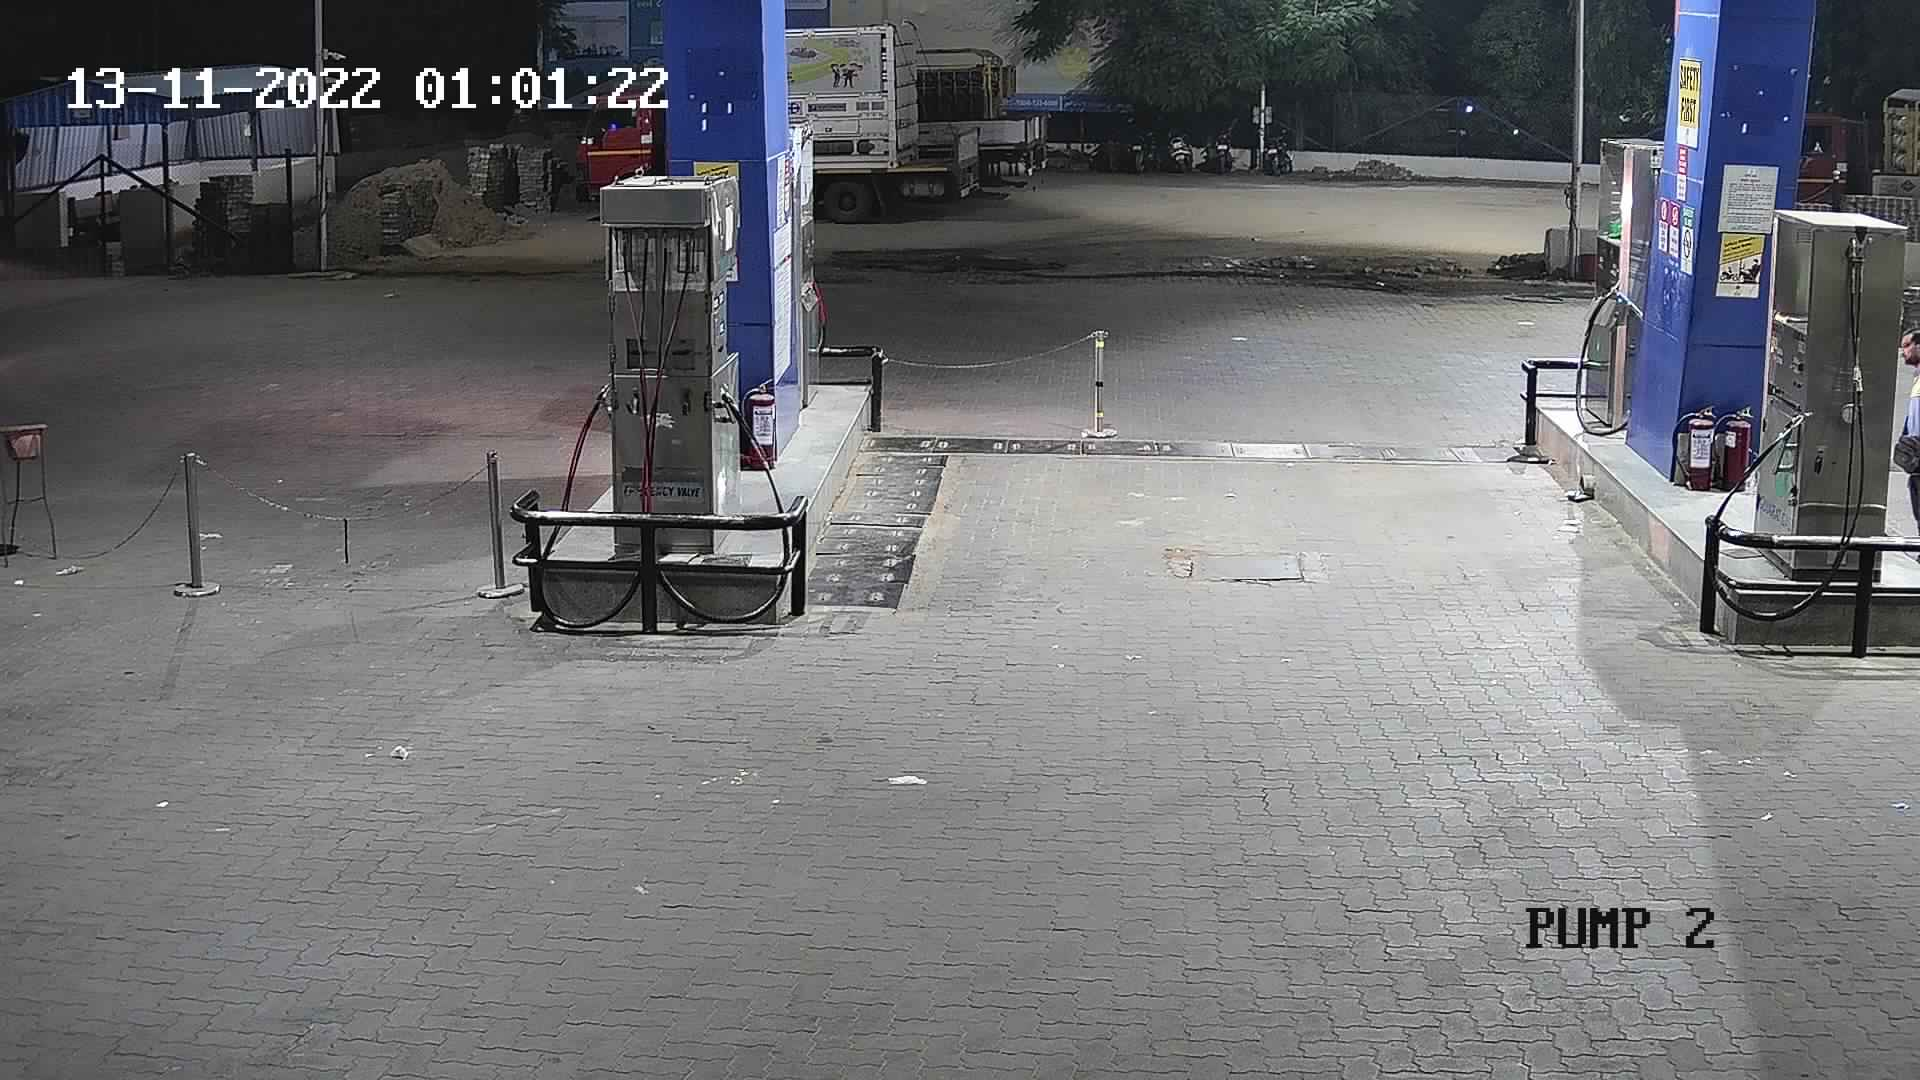Bike: (1197, 111, 1247, 175), (1254, 123, 1302, 185), (1159, 121, 1207, 177), (1124, 121, 1171, 177)
HMV: (771, 12, 996, 229), (906, 34, 1068, 200), (1778, 74, 1917, 231)
